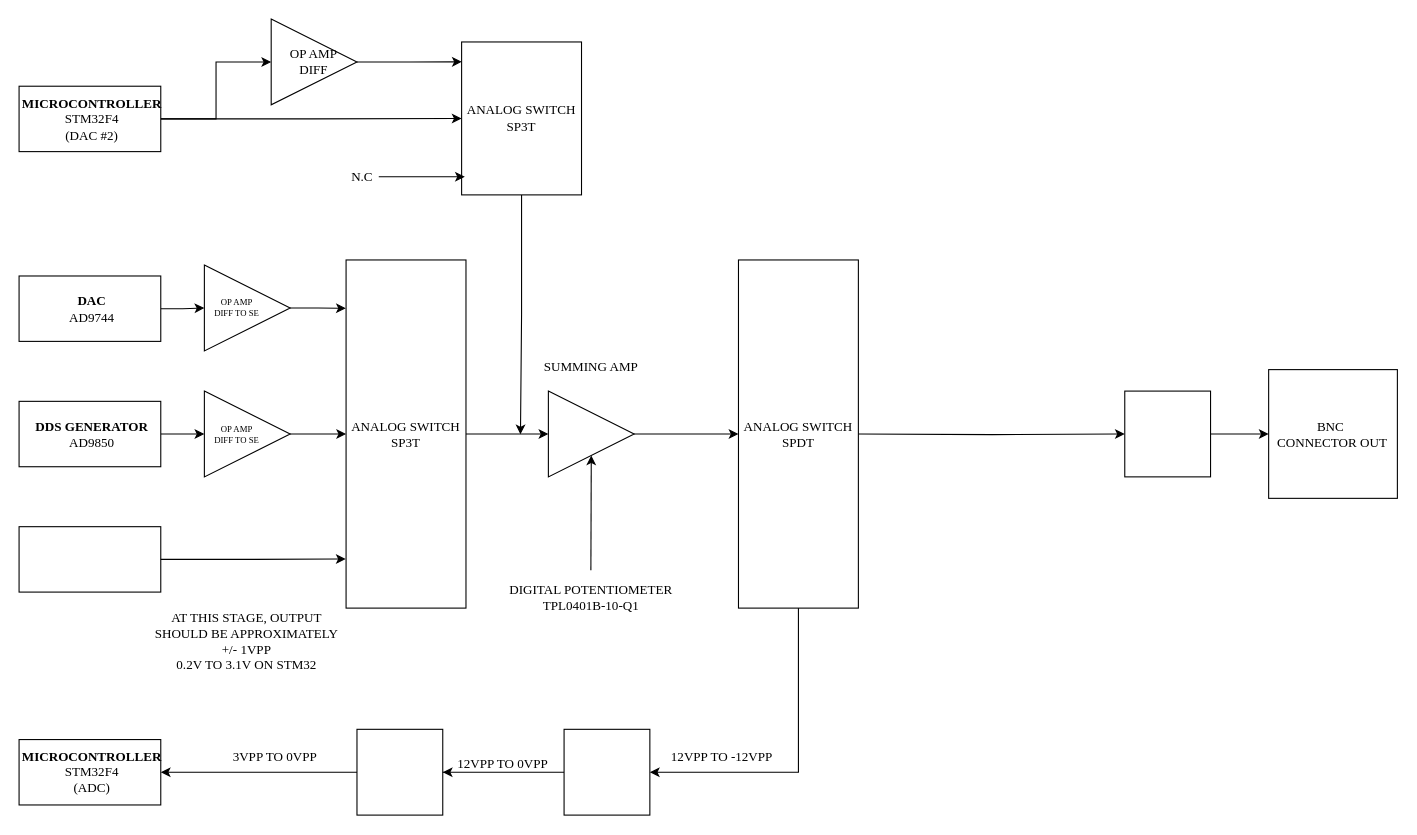
The diagram is 1417 pixels wide and 835 high, and some of its shapes have lost their labels. The box of each missing label's shape, as (x1, y1, x2, y2) in pixels:
125 MHZ LPF: (1124, 390, 1211, 477)
ATTENUATOR 12DB: (356, 728, 443, 815)
MICROCONTROLLER STM32F4 (DAC #1): (18, 526, 161, 592)
OP AMP: (547, 390, 634, 477)
RVP DIODE: (563, 728, 650, 815)
